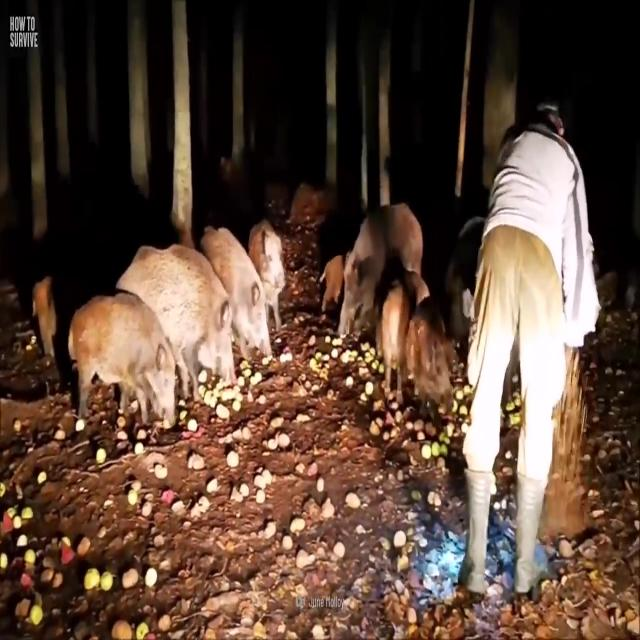pig: (56, 268, 185, 446), (124, 214, 237, 389), (194, 220, 274, 364), (256, 220, 287, 299)
